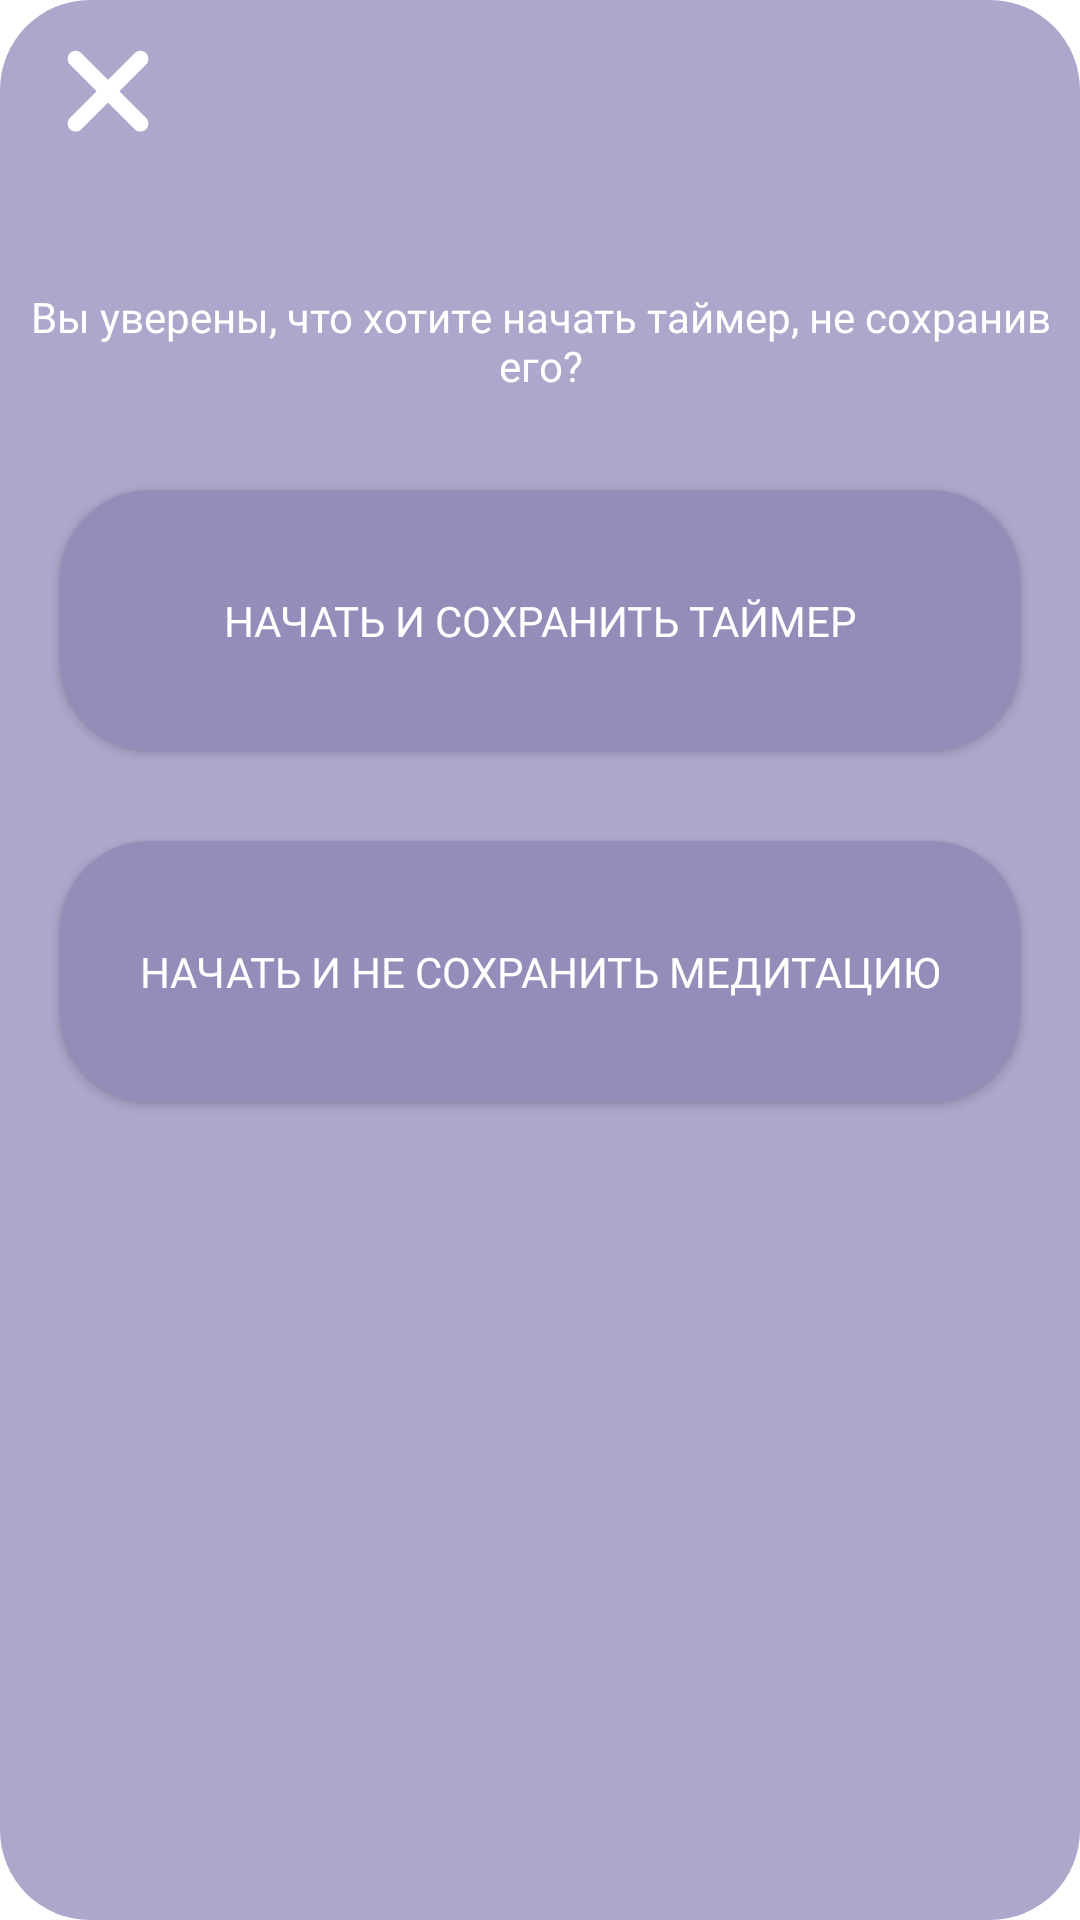

Locate icon controls on the screen. Image size 1080 × 1920, boxes as (x1=x1, y1=y1, x2=x2, y2=y2).
cross: (x1=67, y1=51, x2=148, y2=132)
